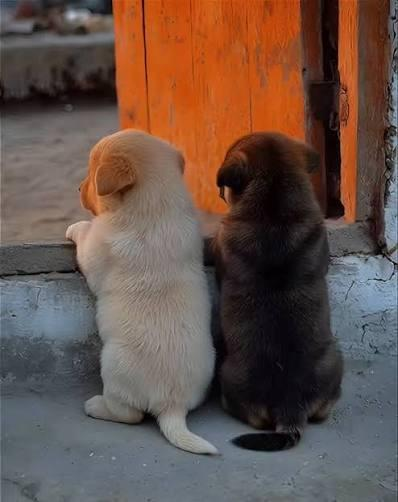puppy-dog: (66, 126, 222, 458), (208, 127, 346, 451)
